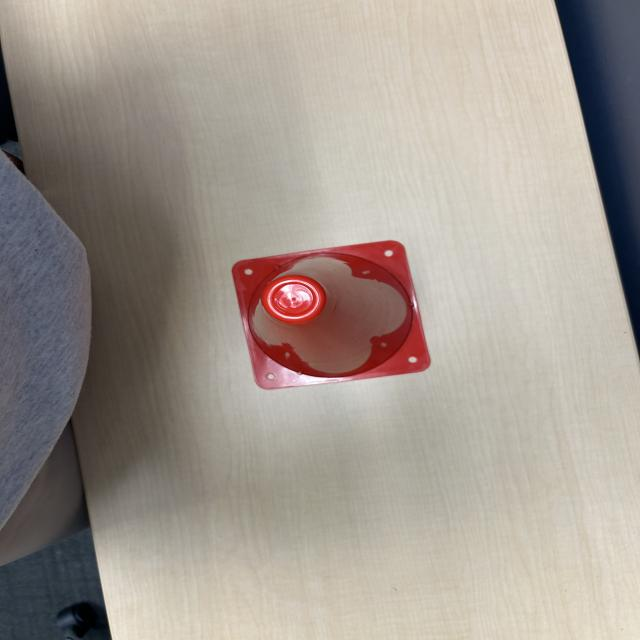orange cone: (222, 239, 454, 390)
